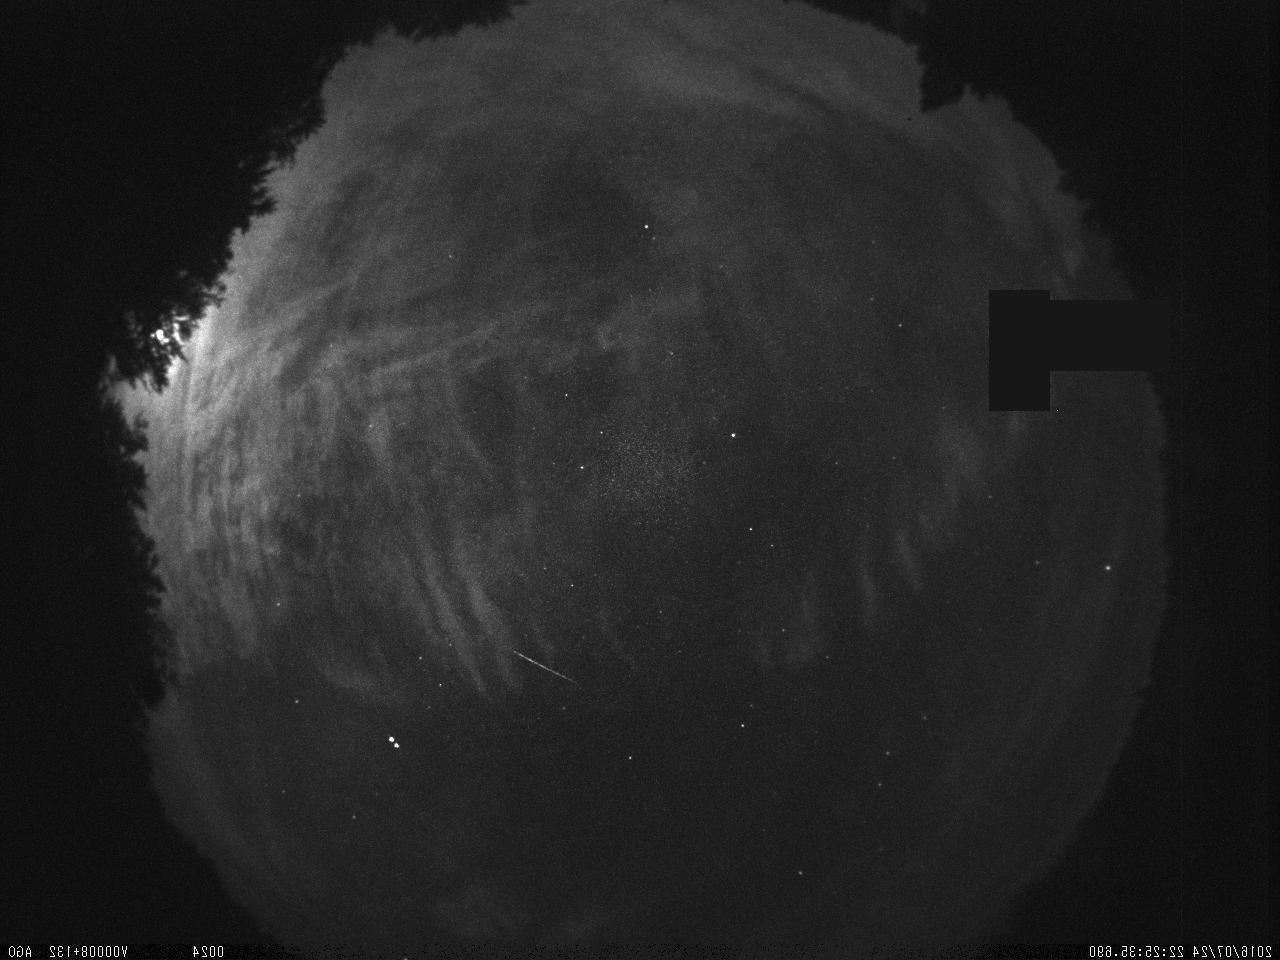meteor: (499, 614, 587, 719)
